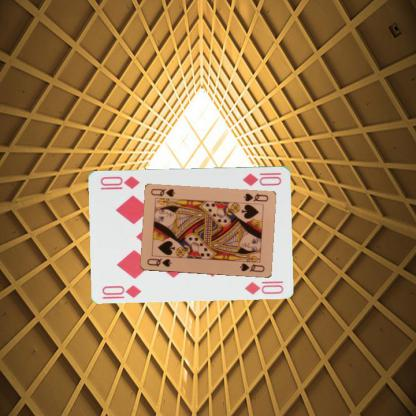10d: (240, 169, 283, 187), (100, 282, 143, 299)
Qs: (241, 190, 269, 202), (145, 256, 172, 268)
